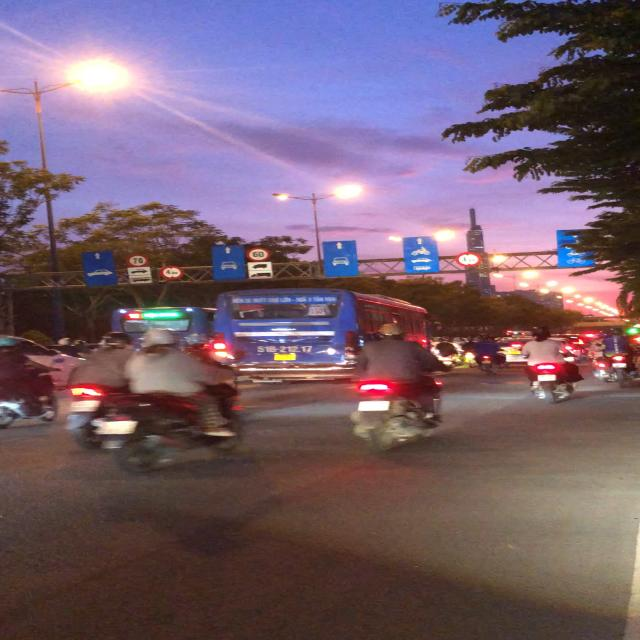Bien bao han che chieu cao: (157, 264, 186, 280), (453, 251, 482, 267)
Bien bao toc do toi da cho phep: (243, 245, 272, 262), (123, 253, 154, 267)
